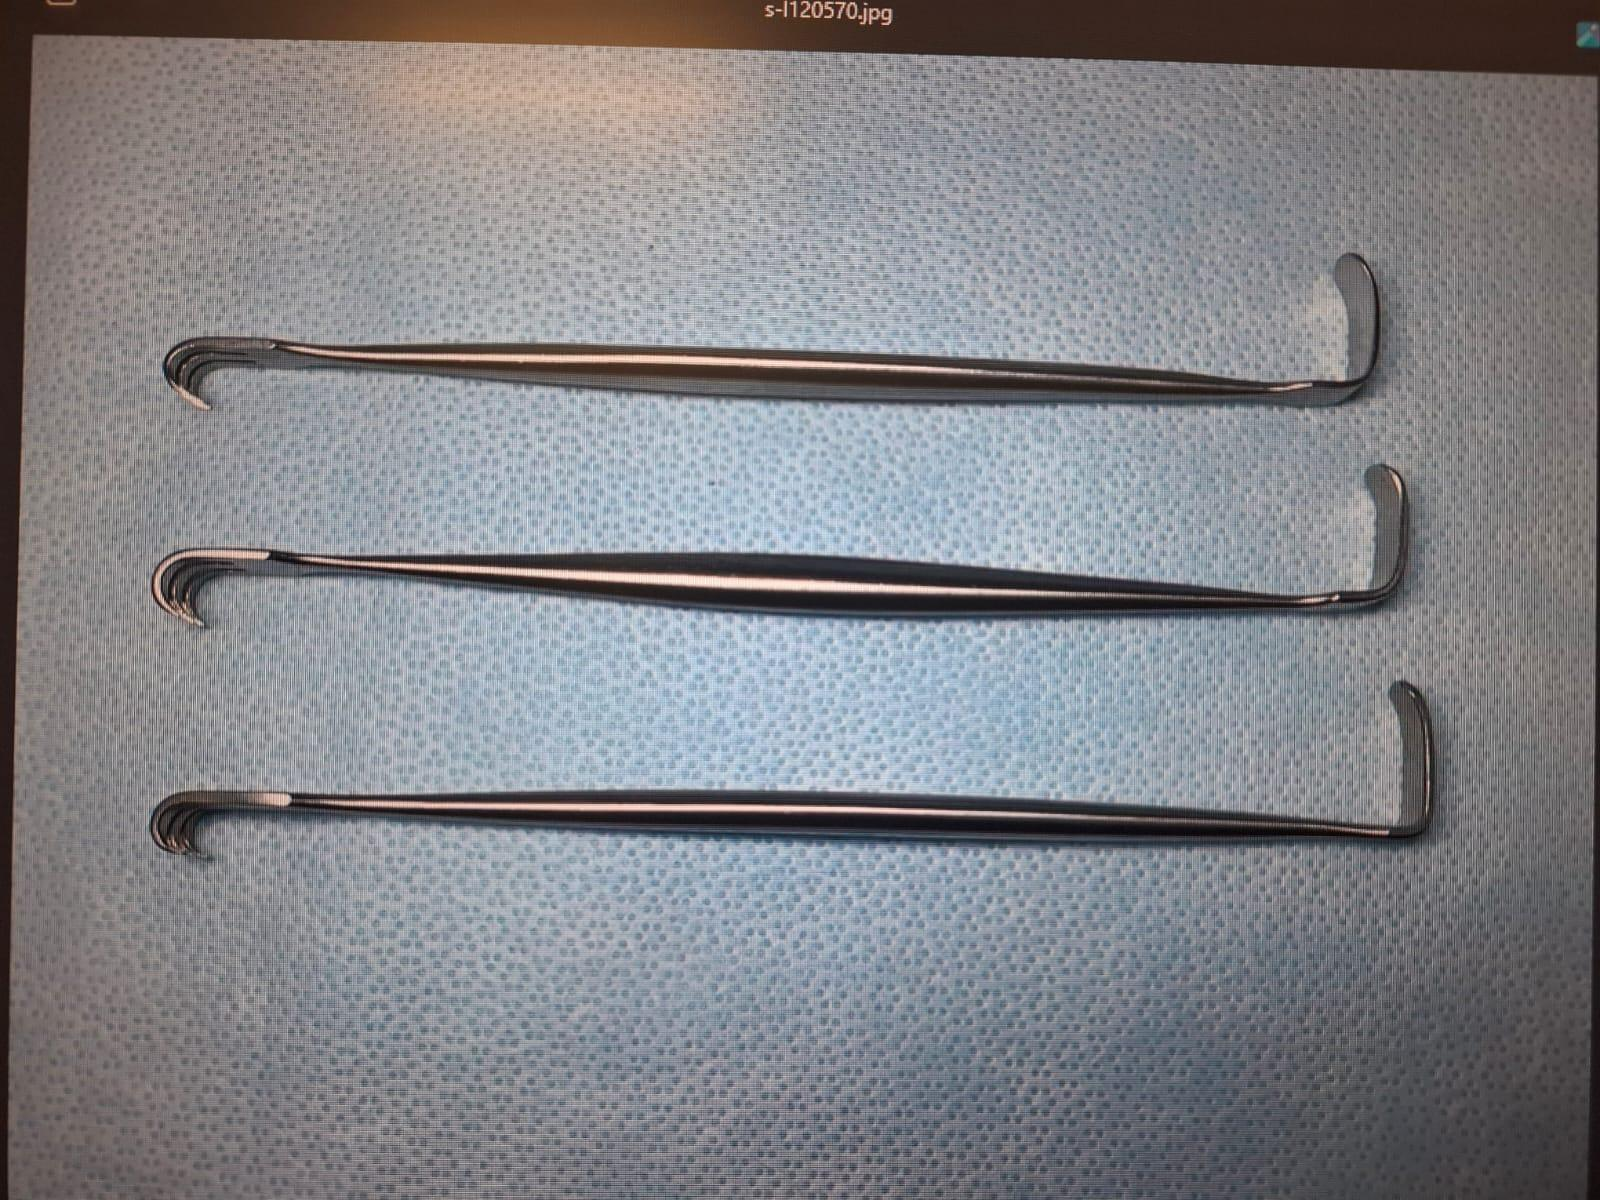Senn Retractor: (136, 654, 1477, 914), (132, 450, 1430, 658), (150, 242, 1406, 420)
